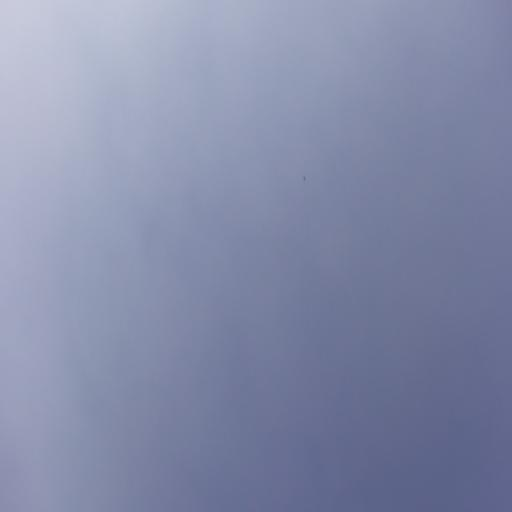drones: (302, 175, 306, 182)
